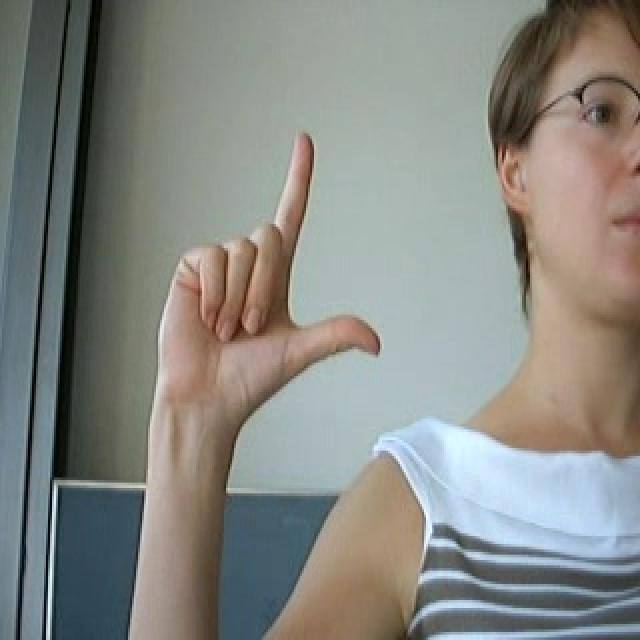L: (150, 127, 386, 424)
